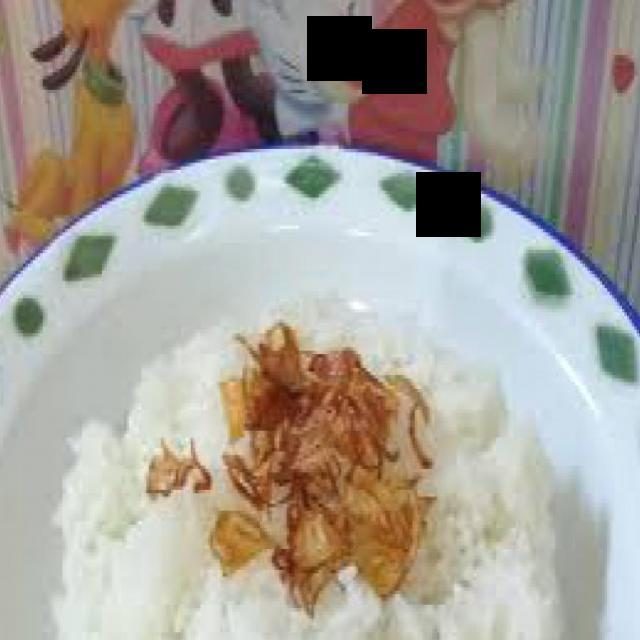rice: (64, 293, 567, 640)
